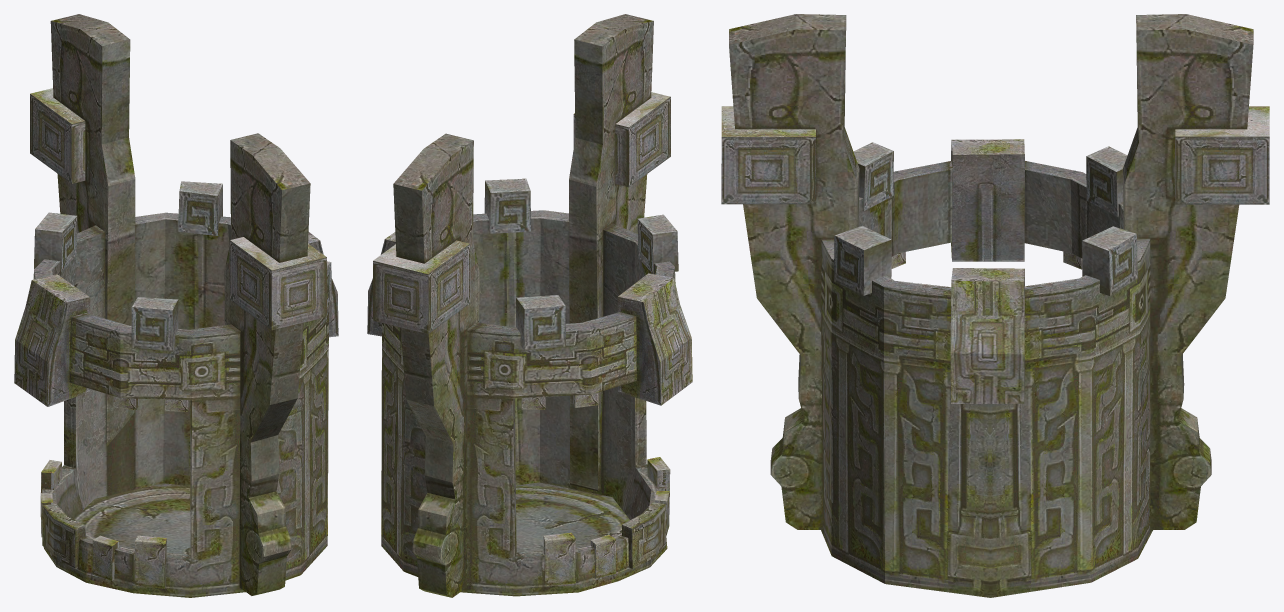
File: bg_eud_moray_statue02_sm_artree.FBX
3 renders of one model, left to right at view 1: azimuth 30°, elevation 25°; view 2: azimuth 150°, elevation 25°; view 3: azimuth 270°, elevation 25°, orthographic. The views are drawn at different scales.
Visible parts, largest first — view 1: bg_eud_moray_statue02_sm_artree; view 2: bg_eud_moray_statue02_sm_artree; view 3: bg_eud_moray_statue02_sm_artree.
Part boxes in pixels (box(x1,y1,x2,y2)): bg_eud_moray_statue02_sm_artree: box(14, 14, 338, 597); bg_eud_moray_statue02_sm_artree: box(367, 14, 692, 597); bg_eud_moray_statue02_sm_artree: box(721, 14, 1269, 597).
Bounding box in the file's own units: 82.68 × 121 × 118.
